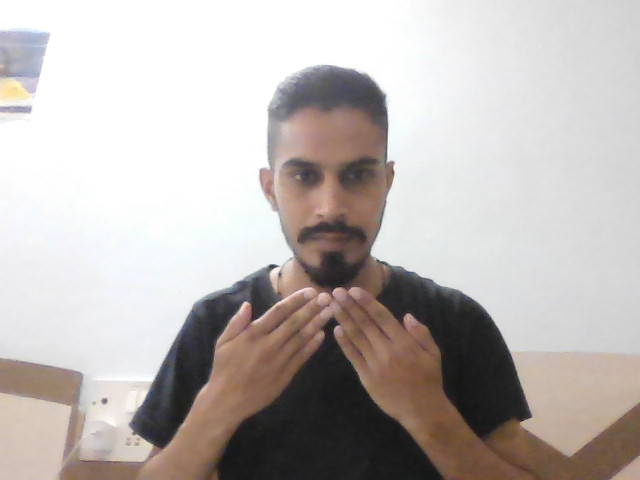ThankYou: (201, 285, 464, 415)
